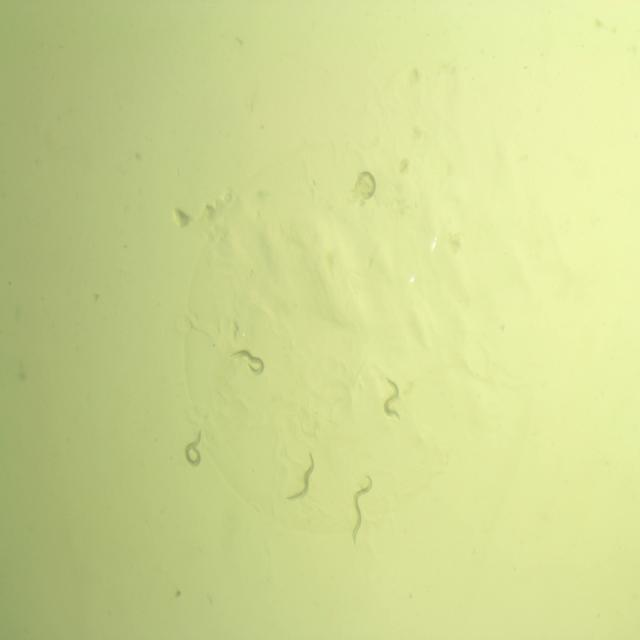worm: (347, 470, 375, 549), (283, 448, 321, 506), (380, 370, 404, 430), (229, 346, 267, 380), (351, 165, 378, 204), (182, 426, 206, 469)
